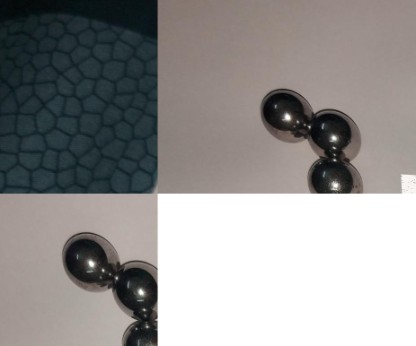ironball: (61, 227, 119, 294), (301, 105, 358, 161), (259, 83, 309, 145), (112, 255, 158, 318), (309, 156, 364, 193), (121, 312, 158, 344)
